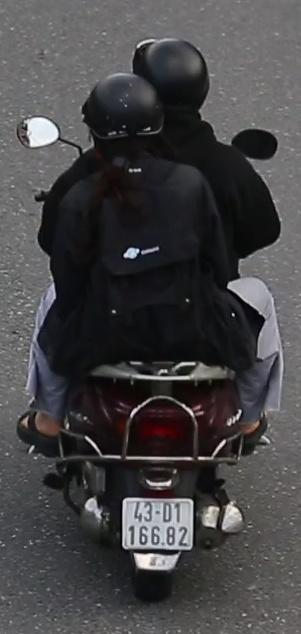LP: (120, 493, 197, 559)
helmet: (78, 70, 168, 173), (126, 33, 214, 123)
